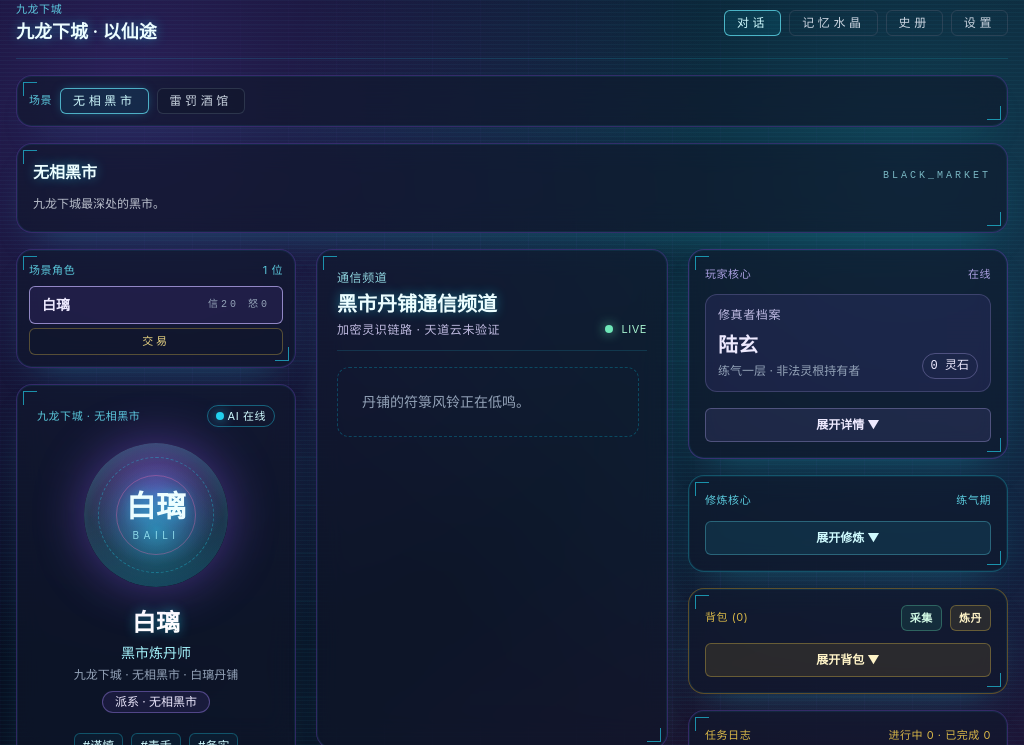
PlayPage scene + NPC navigation › renders multiple NPC replies from one player message
Click the button "雷罚酒馆": point(201, 100) x1=156 y1=88 x2=245 y2=114
(page scrolled)
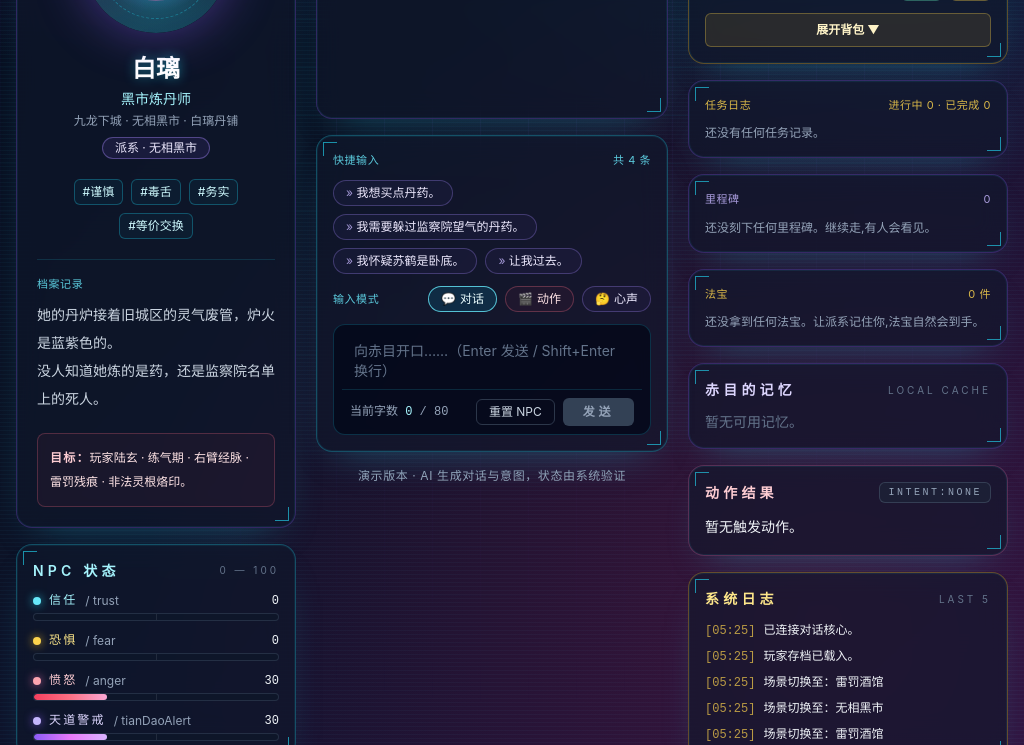
In the text box with placeholder "向赤目开口……（Enter 发送 / Shift+Enter 换行）": point(492, 361) x1=342 y1=333 x2=642 y2=389, type "让我过"
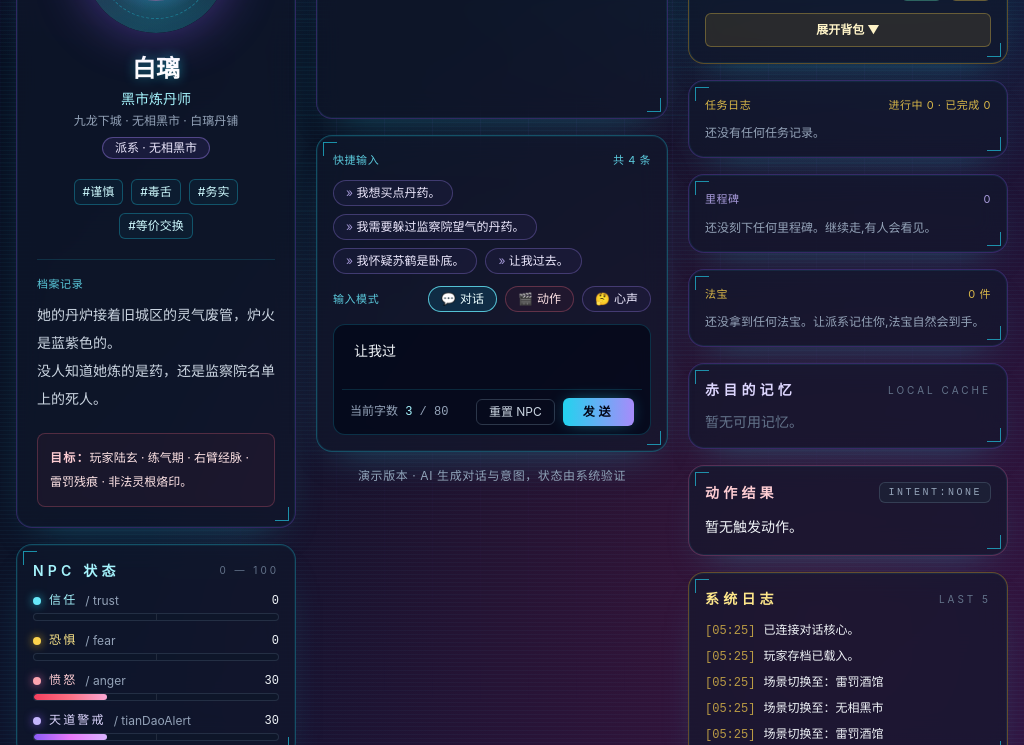
Click the button "发送": point(598, 412) x1=563 y1=398 x2=634 y2=426
(page scrolled)
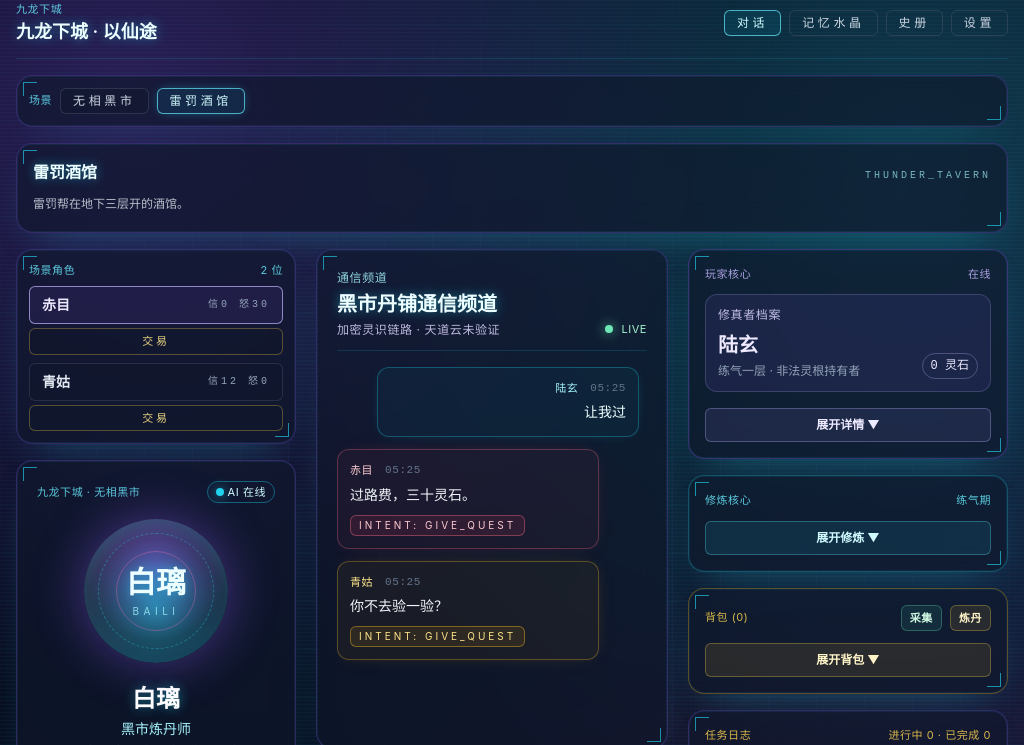
Expected: the text "赤目" below "场景角色" is shown, x1=42 y1=296 x2=70 y2=313
Expected: the text "过路费，三十灵石。" is shown, x1=350 y1=486 x2=476 y2=502
Expected: the text "你不去验一验？" is shown, x1=350 y1=597 x2=448 y2=614
